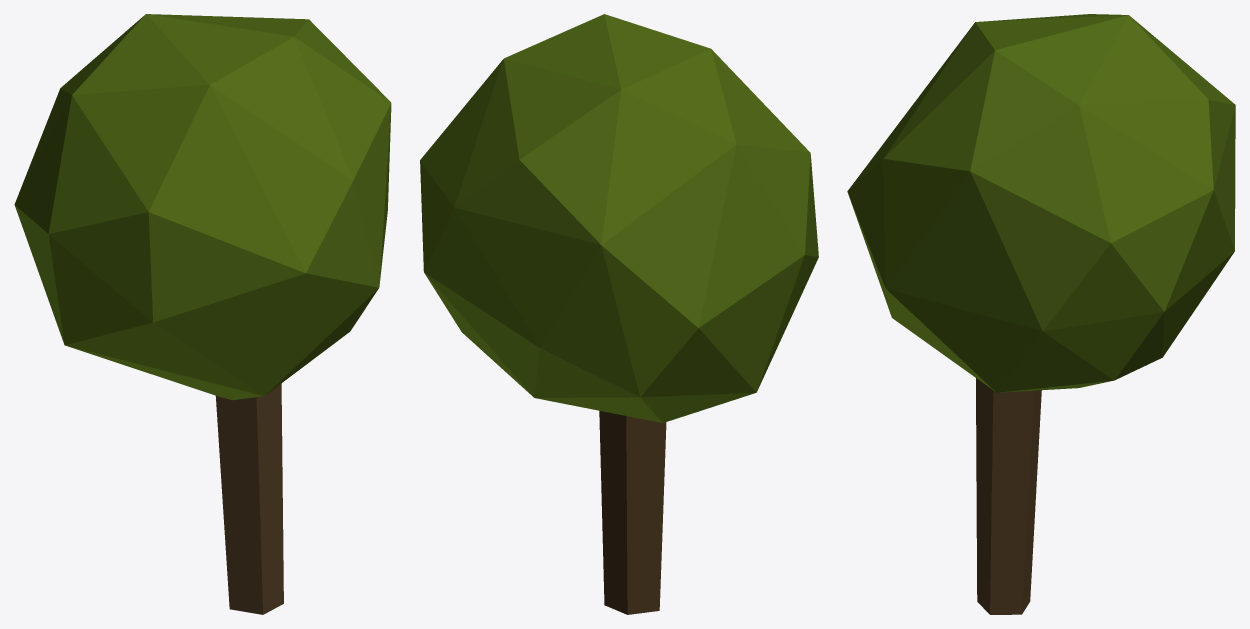
File: TreesAndBushes_020.fbx
3 views of the same model, side by side, from view 1: azimuth 30°, elevation 25°; view 2: azimuth 150°, elevation 25°; view 3: azimuth 270°, elevation 25° (orthographic). The views are drawn at different scales.
Parts seen in each view (by area): view 1: TreesAndBushes_020; view 2: TreesAndBushes_020; view 3: TreesAndBushes_020.
Boxes of the visible parts, box(x1,y1,x2,y2) form: TreesAndBushes_020: box(14, 14, 391, 614); TreesAndBushes_020: box(420, 14, 818, 614); TreesAndBushes_020: box(847, 14, 1235, 614).
Bounding box in the file's own units: 19.31 × 30.27 × 18.66.
